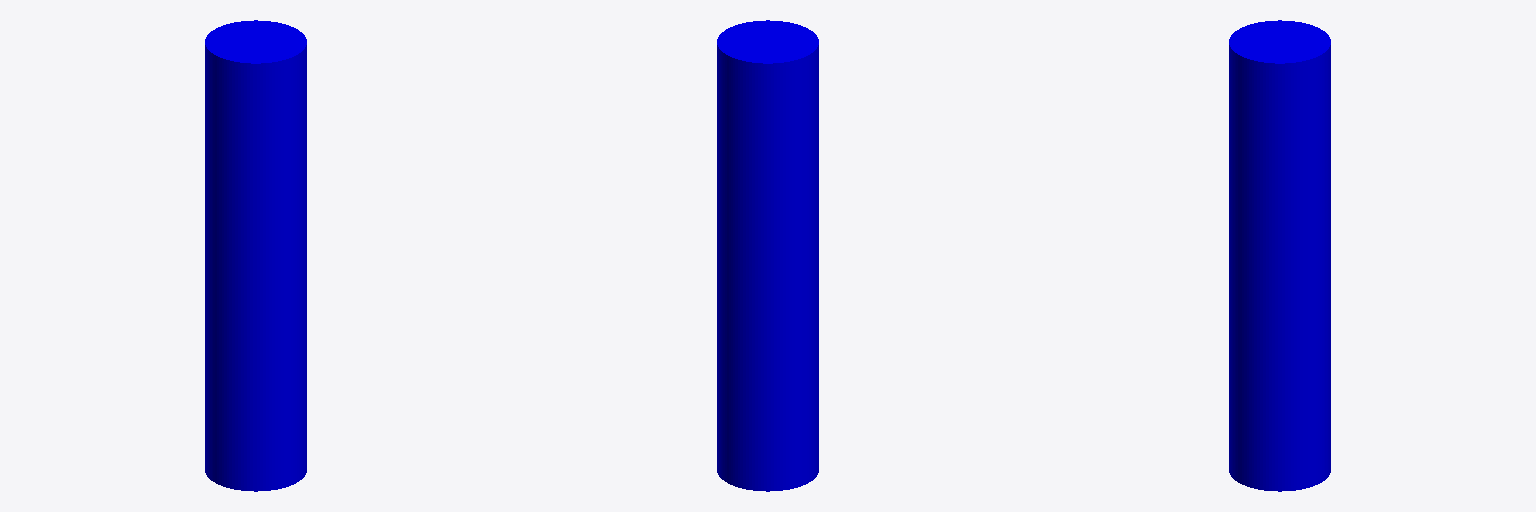
The robot description file, URDF, robot "board3_block12":
<?xml version="1.0"?>
<robot name="board3_block12">
    <link name="board3_block12">
        <visual>
            <origin xyz="0 0 0 " rpy=" 0 0 0"/>
            <geometry>
                <mesh filename="../meshes/SIMO_Board3_Block12.stl" scale="0.001 0.001 0.001"/>
            </geometry>
            <material name="red">
                <color rgba="0.0 0.0 1.0 1.0"/>
            </material>
        </visual>
        <collision>
            <origin xyz="0 0 0" rpy="0 0 0"/>
            <geometry>
                <mesh filename="../meshes/SIMO_Board3_Block12.stl" scale="0.001 0.001 0.001"/>
            </geometry>
        </collision>
    </link>
</robot>

--- What the picture shows (computed from the rendered views, not written in the file) ---
The picture shows the robot from 3 angles, left to right: view 1: azimuth 30°, elevation 25°; view 2: azimuth 150°, elevation 25°; view 3: azimuth 270°, elevation 25°; orthographic projection.
Robot: board3_block12 — 1 links, 0 joints (none); root link board3_block12; default pose: every joint at zero.
Visible links, largest first — view 1: board3_block12; view 2: board3_block12; view 3: board3_block12.
Link boxes in pixels (x1,y1,x2,y2): board3_block12: [205, 20, 306, 491]; board3_block12: [717, 20, 818, 491]; board3_block12: [1229, 20, 1330, 491].
Bounding box of the posed robot: 0.0324 × 0.0324 × 0.15 m (x, y, z).
Meshes: 1 distinct files referenced, 1 mesh visuals loaded (1 ASCII STL).